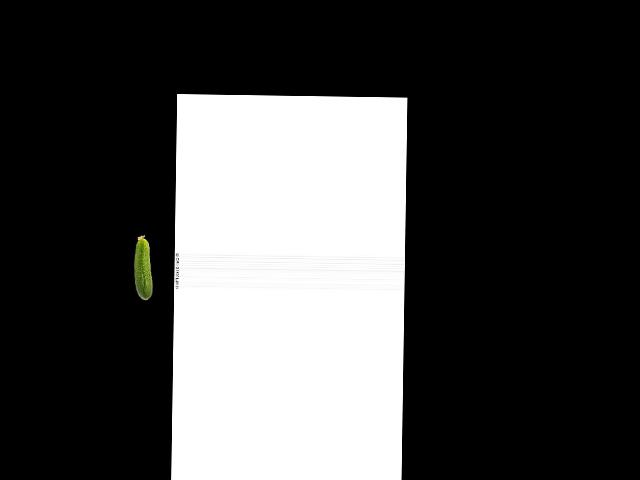cucumber: (133, 235, 153, 300)
